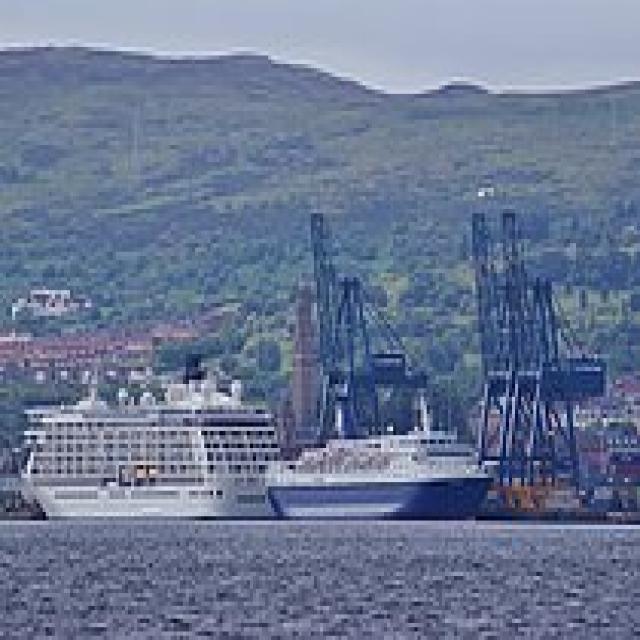Ship: (19, 347, 294, 531)
